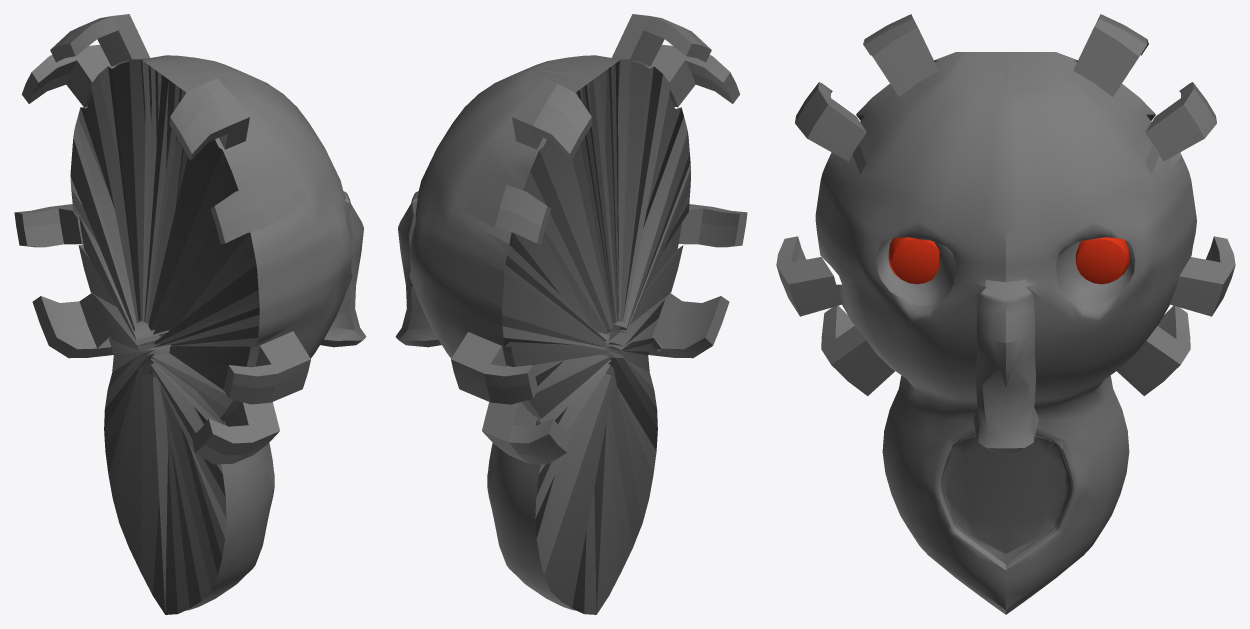
The model's file is DarkMask-2.fbx.
The picture shows the model from 3 angles, left to right: view 1: azimuth 30°, elevation 25°; view 2: azimuth 150°, elevation 25°; view 3: azimuth 270°, elevation 25°; orthographic projection.
Parts seen in each view (by area): view 1: pCylinder3; view 2: pCylinder3; view 3: pCylinder3.
Part boxes in pixels (<box>): pCylinder3: <box>14,14,366,614</box>; pCylinder3: <box>395,14,747,614</box>; pCylinder3: <box>776,14,1235,614</box>.
Bounding box in the file's own units: 63.38 × 142 × 104.
